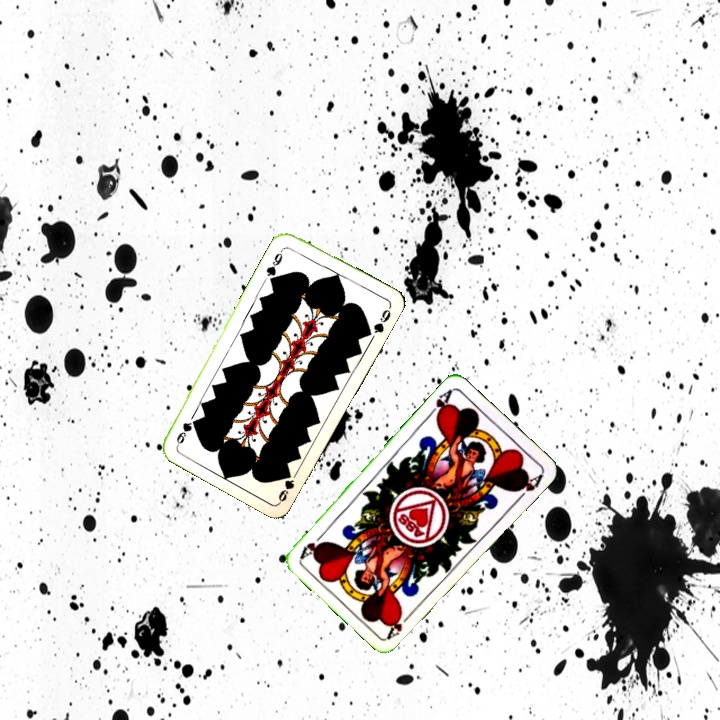G9: (274, 467, 301, 504), (262, 244, 287, 283)
HA: (383, 607, 416, 641), (424, 385, 454, 422)
